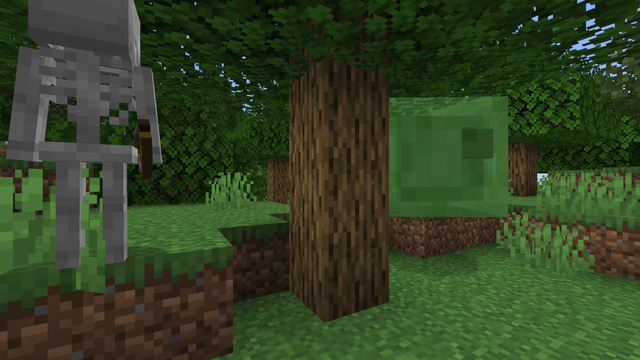slimes: (402, 97, 506, 220)
squelettes: (13, 1, 145, 285)
